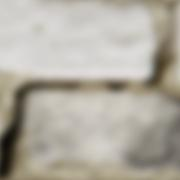brick: (24, 91, 179, 173), (0, 0, 152, 79), (175, 2, 179, 80)
crack: (0, 0, 179, 179)
